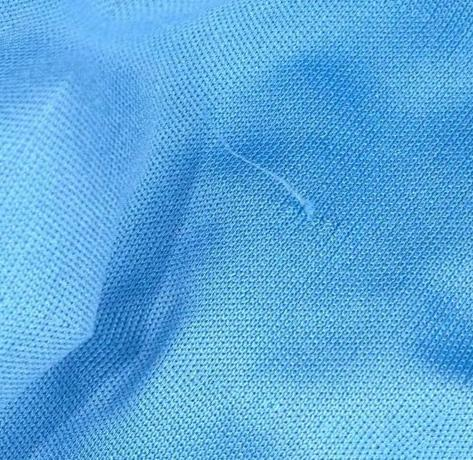snag: (211, 127, 332, 238)
